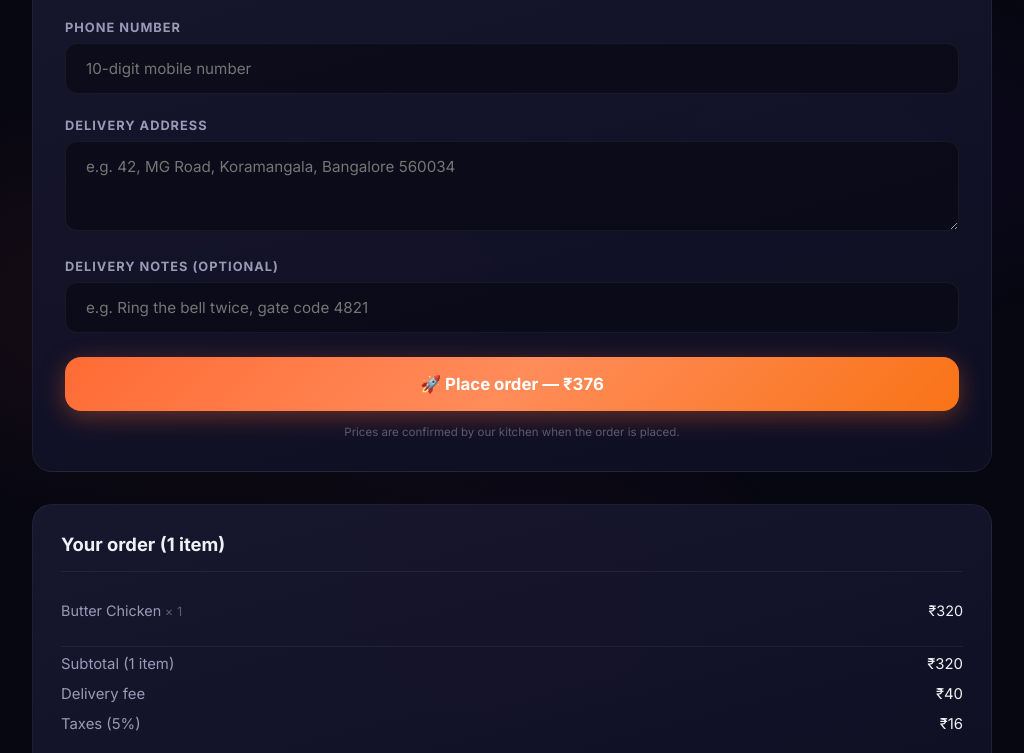
it: CheckoutPage › blocks submission and flags every empty field
(page scrolled)
Click the button "🚀 Place order — ₹376": (512, 384) [65,357,959,411]
(page scrolled)
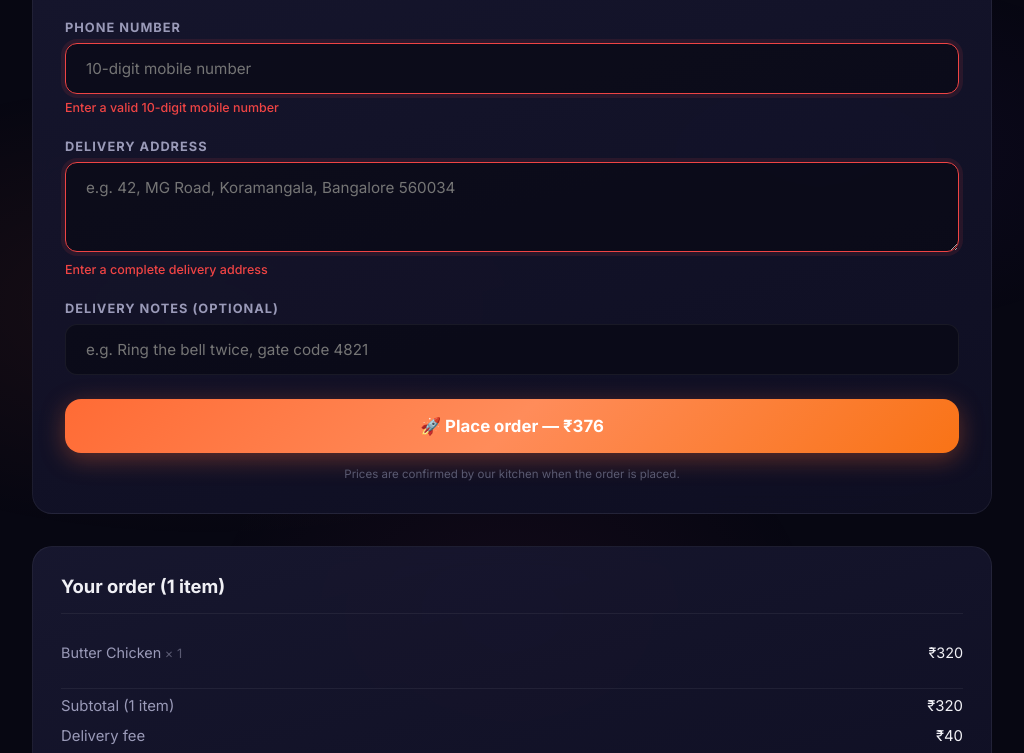
Result: the text "Enter a valid 10-digit mobile number" is shown at [65,100,279,115]
Result: the text "Enter a complete delivery address" is shown at [65,262,268,277]
